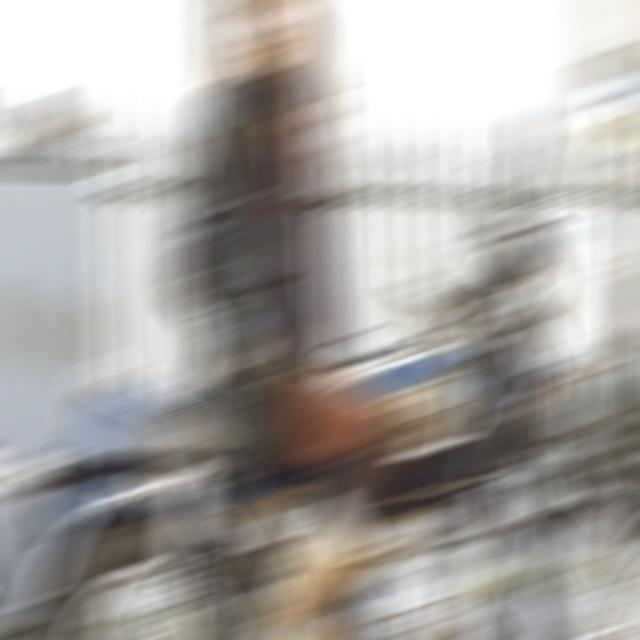Without Helmet: (225, 3, 317, 87)
